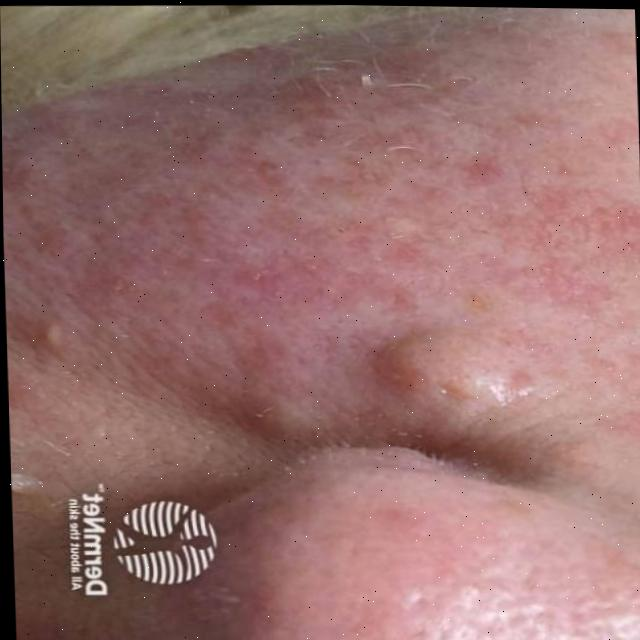Eczema: (90, 94, 583, 456)
